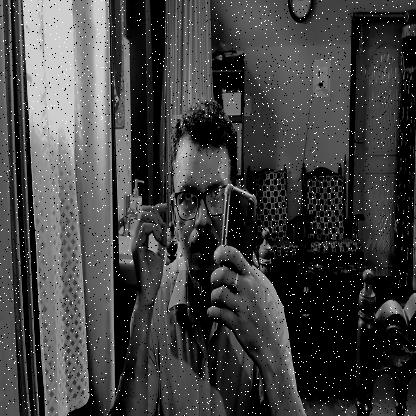Normal: (172, 115, 228, 270)
